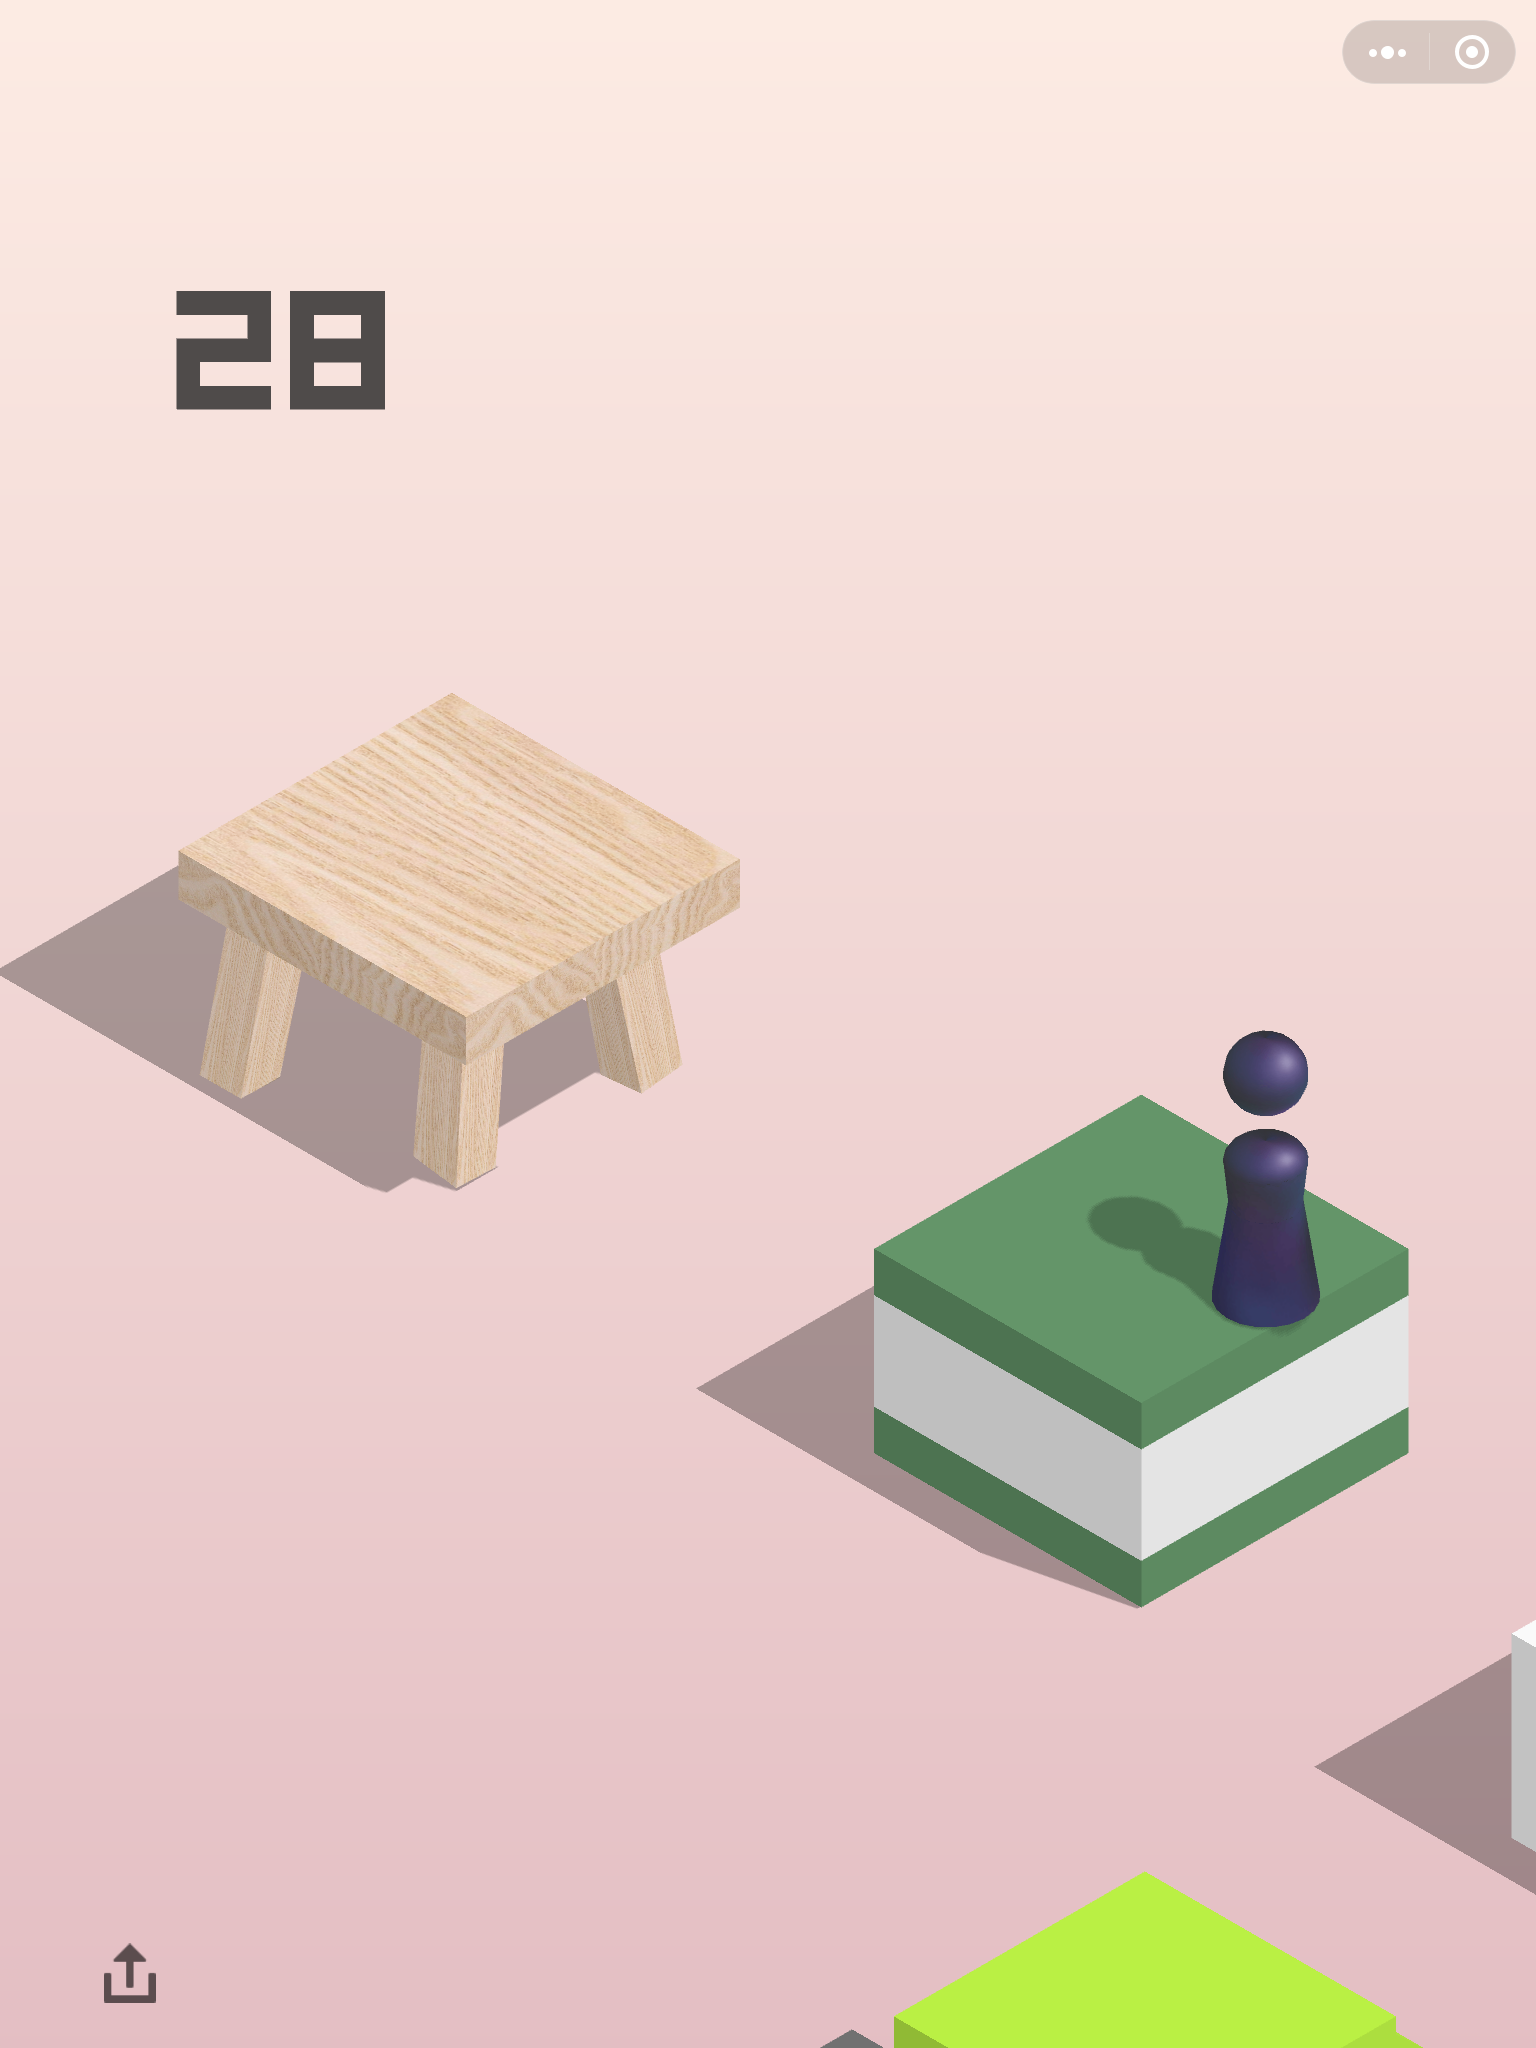f: (171, 689, 745, 1200), (870, 1087, 1417, 1613), (887, 1864, 1418, 2048)
r: (1208, 1026, 1326, 1334)
